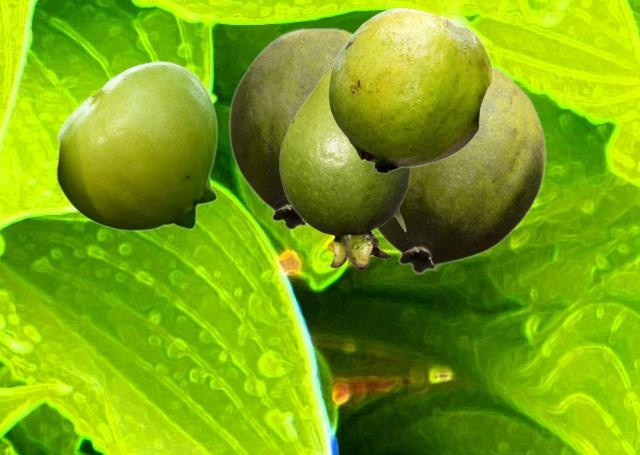guava: (376, 63, 546, 273), (55, 60, 217, 230), (328, 7, 492, 173), (279, 70, 409, 269), (228, 27, 353, 229)
